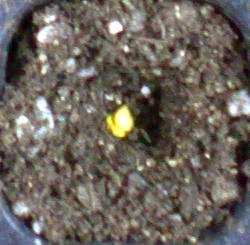pepper seed: (46, 38, 181, 171), (42, 42, 169, 180)
